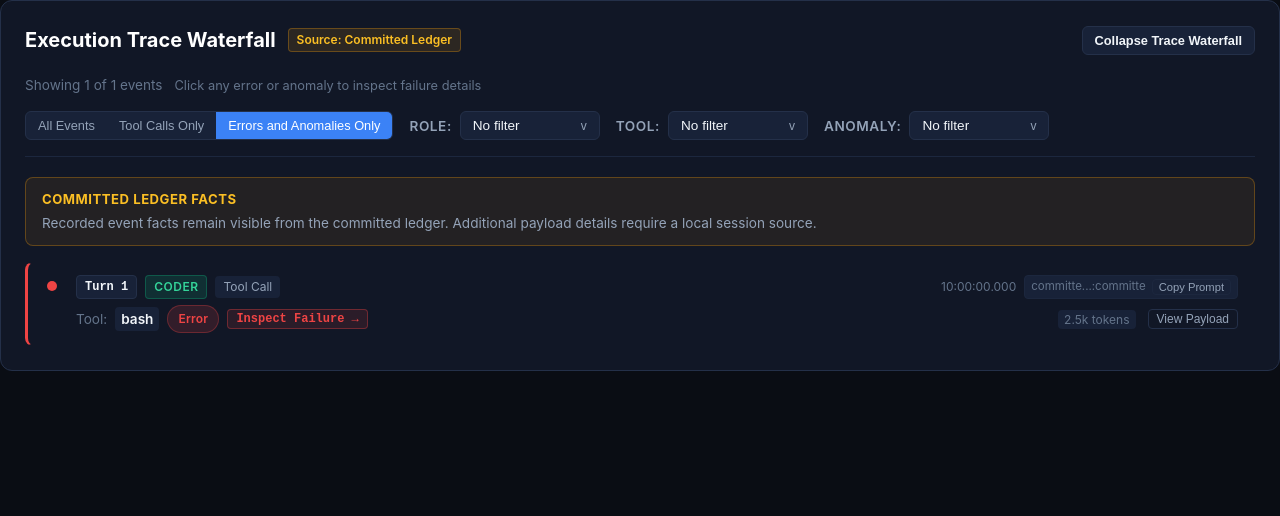
Test: FIX-12 event facts without payload hydration › shows payloads actually supplied by an unhydrated response
Click the button with aria-label "View payload for turn 1".
click(1193, 319)  # box x1=1148 y1=309 x2=1238 y2=329
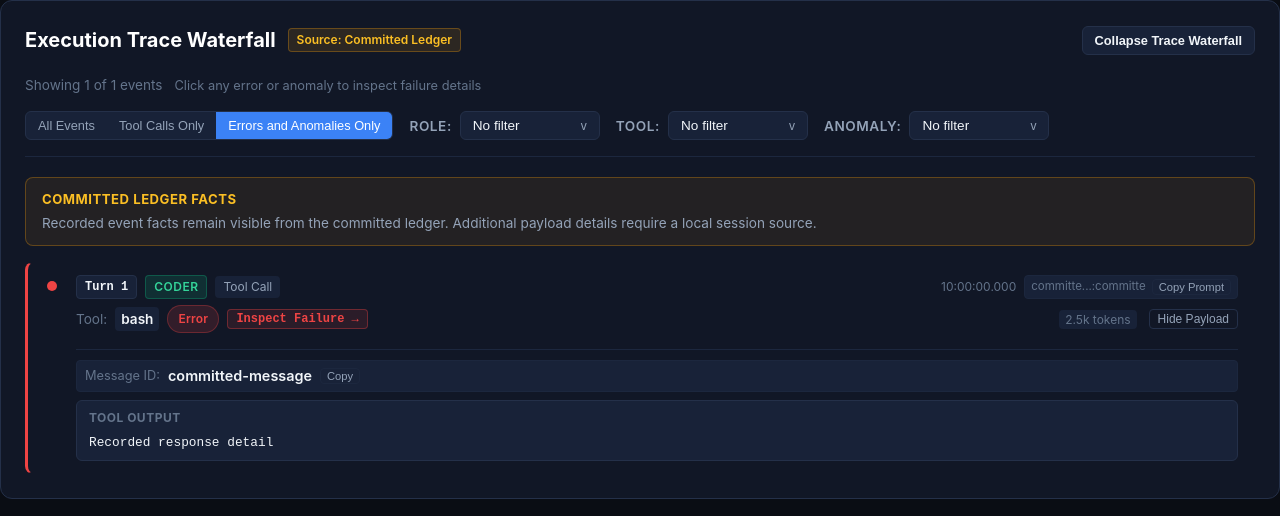
Check: the element with test id "tool-output-payload-block" shows "Recorded response detail", box x1=89 y1=435 x2=273 y2=450
